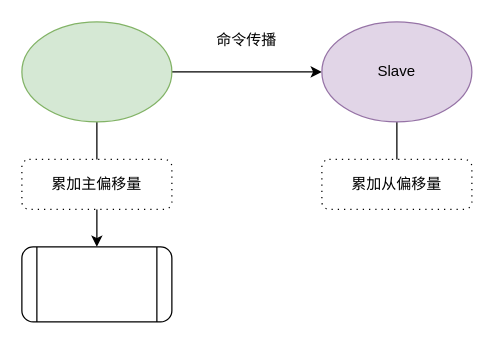
The diagram is 494 pixels wide and 344 high, and some of its shapes have lost their labels. Here are the shapes that lost their labels. From the top down, the box of each, then its label:
(21, 21, 172, 122): Master
(21, 246, 172, 322): 复制缓冲区
